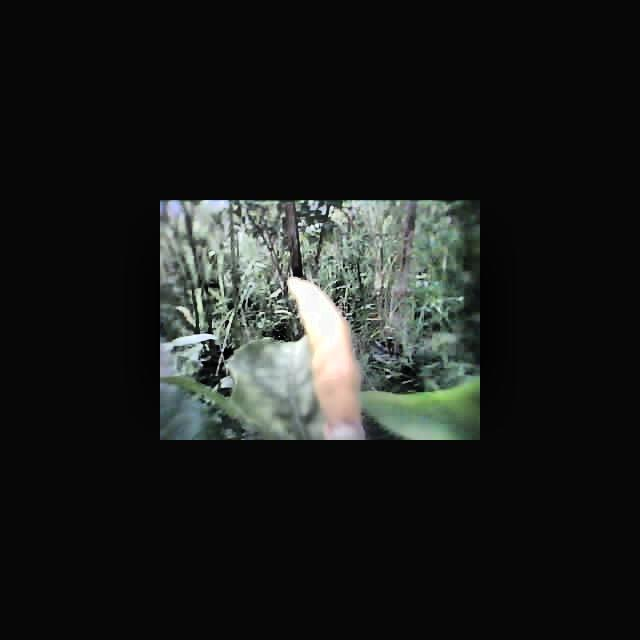Cabai: (291, 278, 365, 421)
